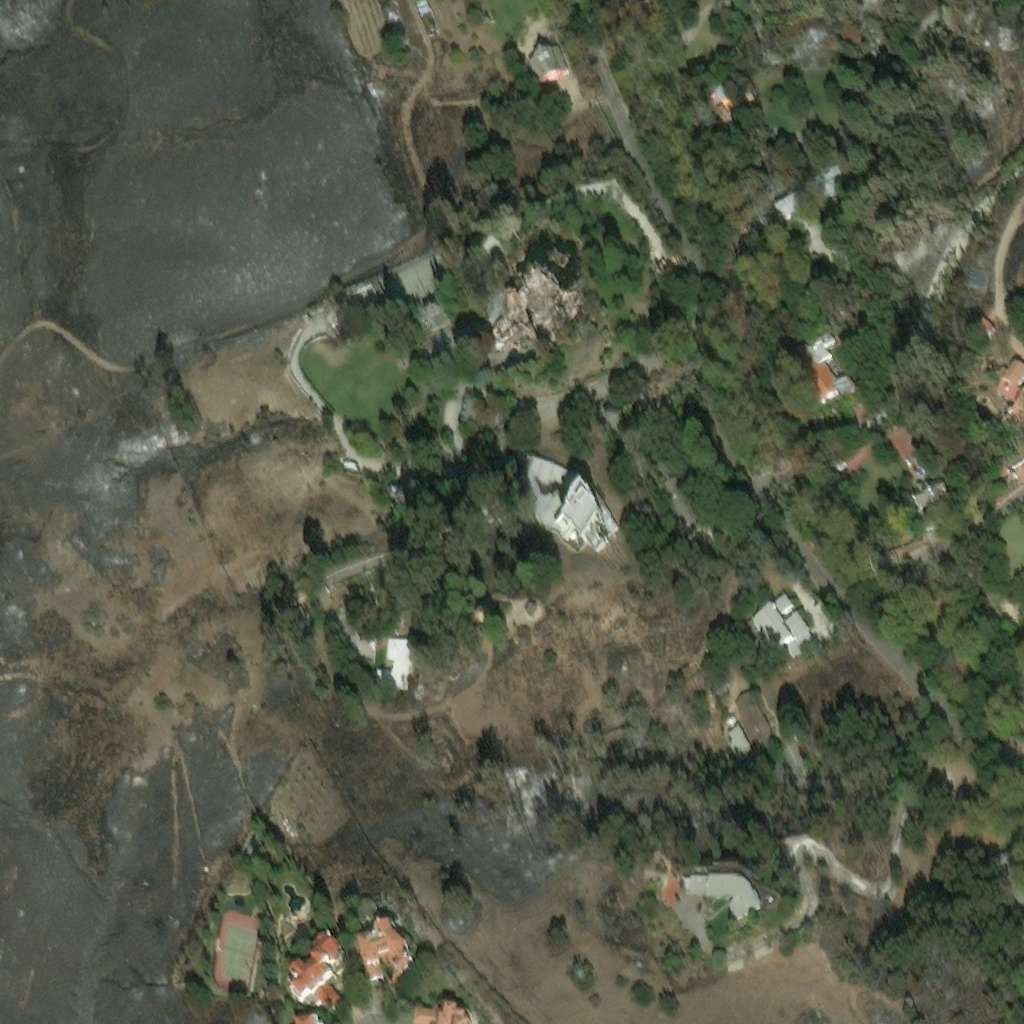0 no-damage: (679, 867, 763, 918), (291, 935, 344, 1013), (354, 927, 416, 992), (750, 600, 802, 666), (773, 168, 838, 219), (552, 488, 604, 549), (771, 589, 815, 648), (881, 417, 923, 475), (732, 686, 770, 740), (908, 471, 954, 515), (372, 632, 408, 681), (551, 473, 585, 524), (526, 43, 569, 83), (986, 842, 1023, 887), (704, 80, 740, 126), (802, 357, 836, 399), (993, 354, 1023, 399), (800, 328, 834, 361), (839, 435, 872, 468), (384, 476, 427, 501), (723, 716, 749, 747), (288, 992, 323, 1012), (242, 831, 266, 858), (656, 866, 676, 898), (1007, 386, 1023, 426), (830, 366, 854, 392), (460, 400, 483, 427), (792, 344, 815, 368), (412, 1006, 443, 1023), (439, 1007, 470, 1023), (823, 351, 841, 374), (584, 473, 598, 500), (476, 608, 493, 626), (974, 312, 987, 328), (526, 605, 538, 619), (1012, 352, 1023, 362)
3 destroyed: (484, 266, 584, 352), (996, 22, 1014, 44)
